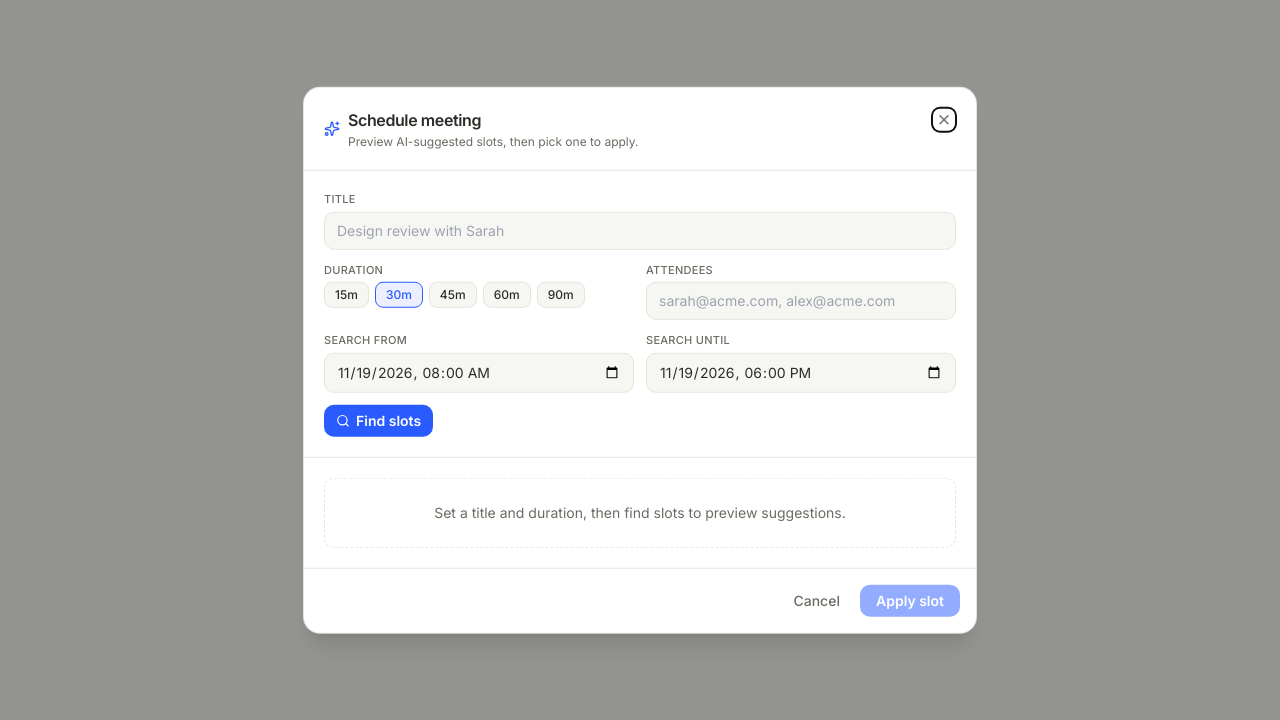
Test: PAC-92: the suggest failure in the Schedule meeting modal › an unreachable server: tagged lost, on a read, with no slot offered
Type "Sync" into the field labelled "Title" at (640, 230), box x1=324 y1=211 x2=956 y2=249
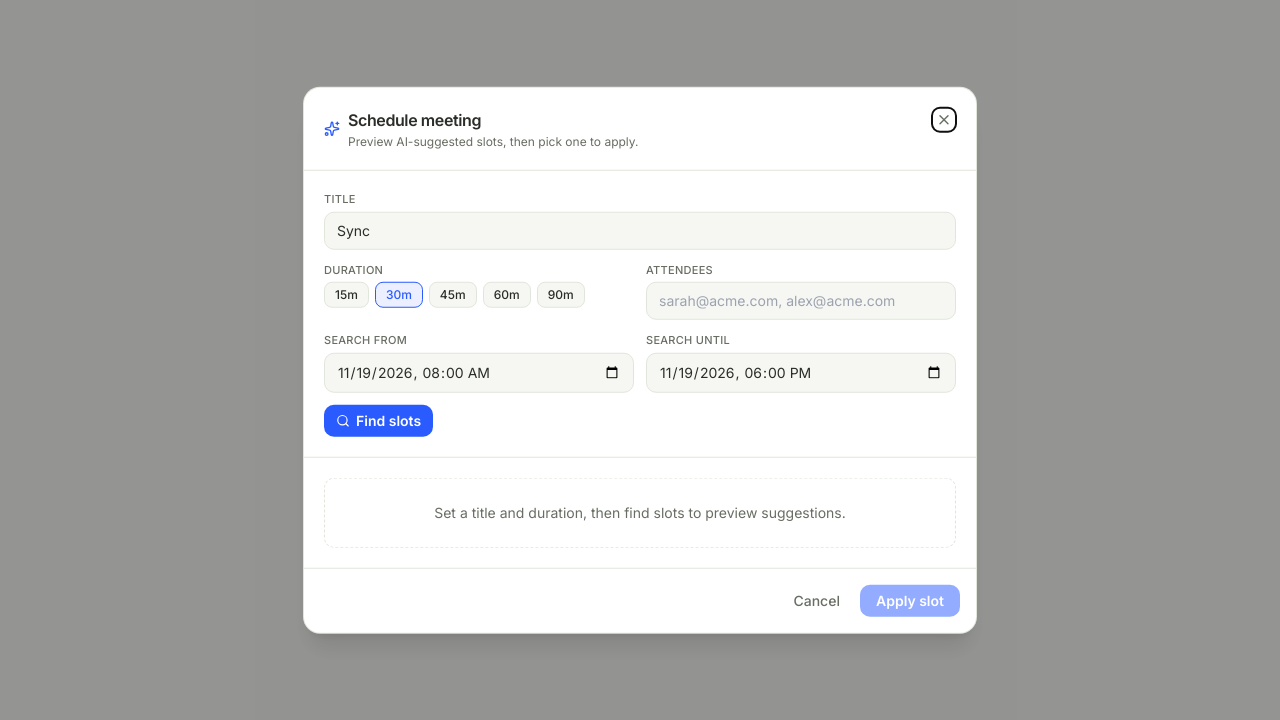
Click the button "Find slots" at (379, 420), box x1=324 y1=404 x2=433 y2=436
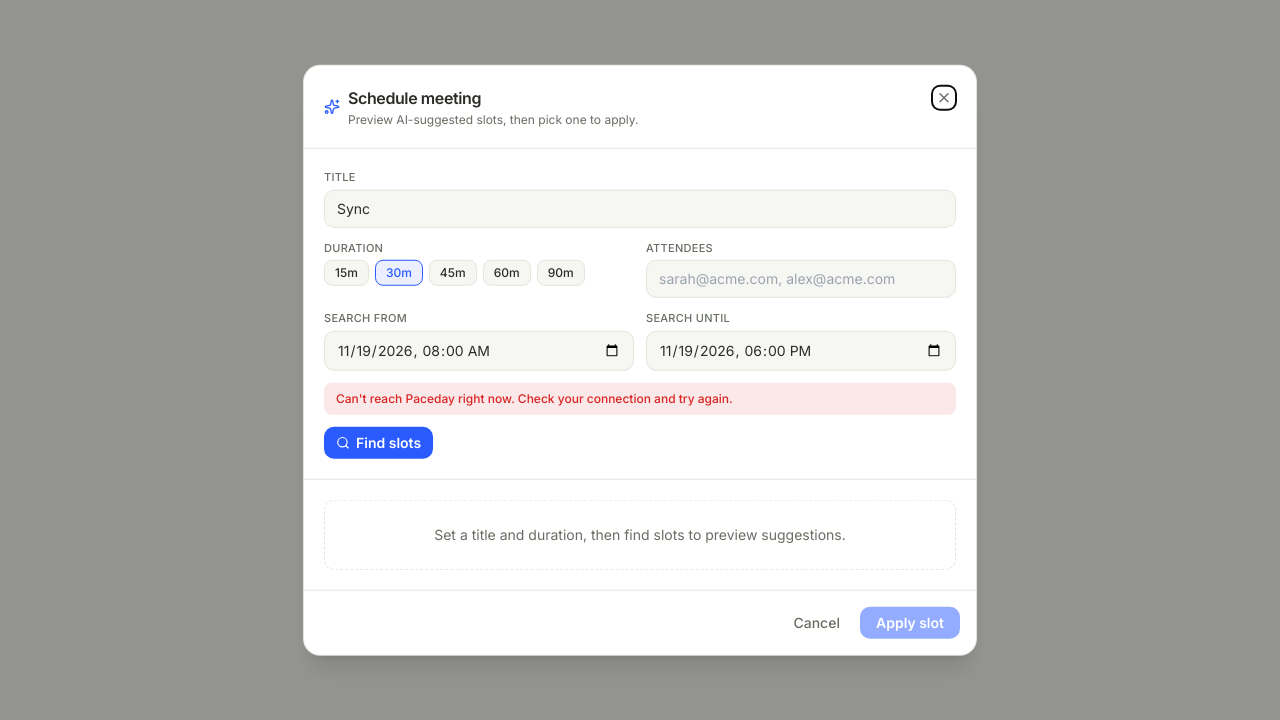
Check: the button "Apply slot" is disabled, box x1=860 y1=606 x2=960 y2=638
Check: the text with test id "api-error" reads "Can't reach Paceday right now. Check your connection and try again.", box x1=336 y1=390 x2=733 y2=405
